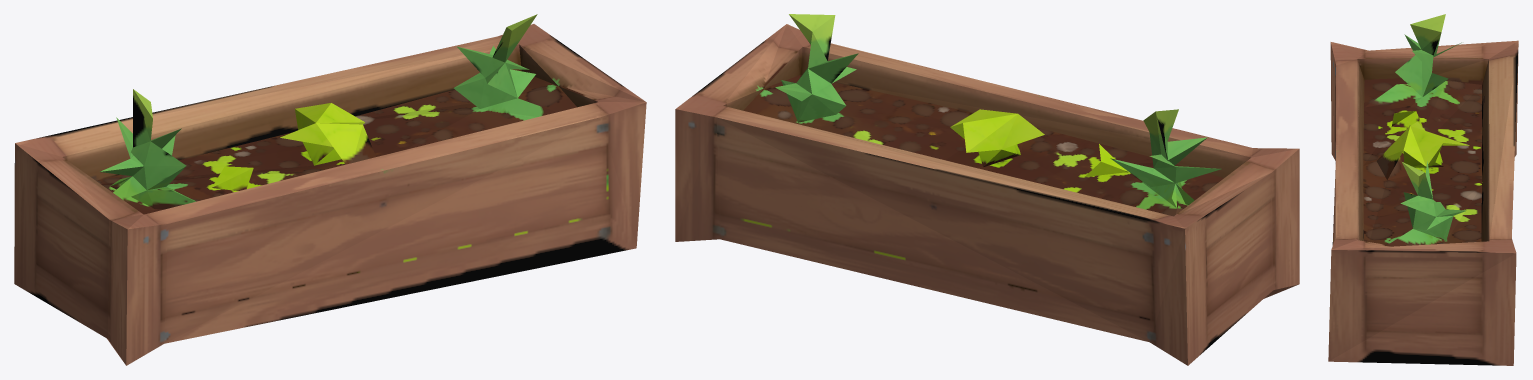
The model's file is planter_box_lod1.glb.
3 views of the same model, side by side, from view 1: azimuth 30°, elevation 25°; view 2: azimuth 150°, elevation 25°; view 3: azimuth 270°, elevation 25° (orthographic). The views are drawn at different scales.
Parts seen in each view (by area): view 1: geometry_0; view 2: geometry_0; view 3: geometry_0.
Part boxes in pixels (bbox=[...]): geometry_0: bbox=[14, 14, 646, 365]; geometry_0: bbox=[675, 14, 1299, 365]; geometry_0: bbox=[1328, 14, 1518, 365].
Bounding box in the file's own units: 1.2 × 0.4655 × 0.4598.
Materials: 1 (1 with a texture image).
